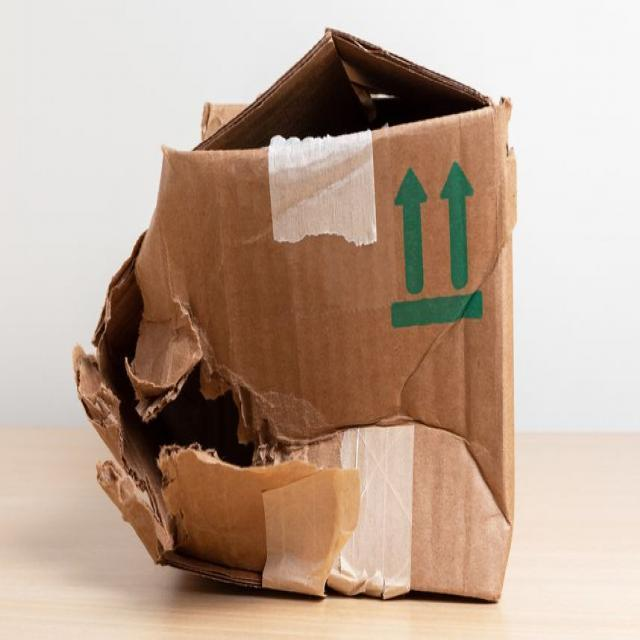hole: (67, 239, 263, 515)
